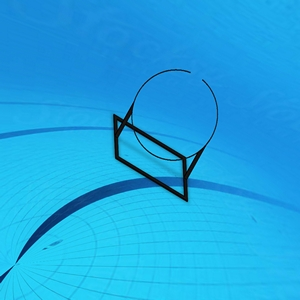circle: (110, 66, 229, 205)
